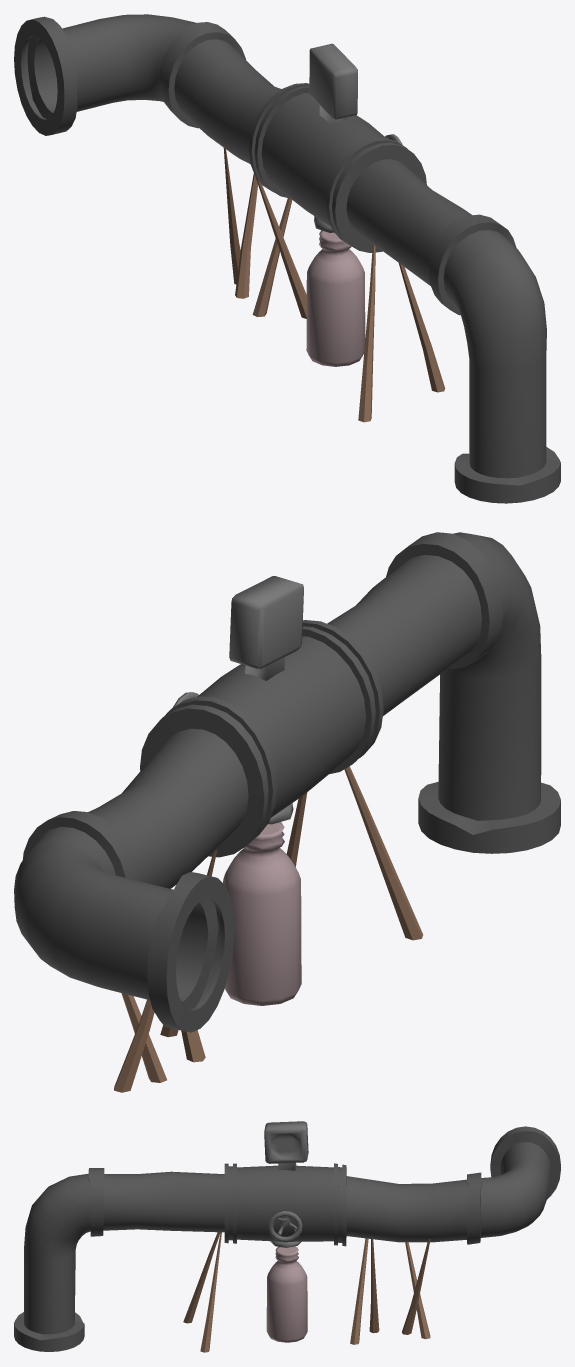
File: MilkCollector.fbx
3 renders of one model, top to bottom at view 1: azimuth 30°, elevation 25°; view 2: azimuth 150°, elevation 25°; view 3: azimuth 270°, elevation 25°, orthographic. The views are drawn at different scales.
Parts seen in each view (by area): view 1: MilkCollector, Chopsticks, Bottle, PipeDecor; view 2: MilkCollector, Bottle, PipeDecor, Chopsticks; view 3: MilkCollector, Chopsticks, Bottle, PipeDecor.
Boxes of the visible parts, left/top/right/bottom form: MilkCollector: left=14, top=14, right=560, bottom=503; Chopsticks: left=223, top=147, right=445, bottom=422; Bottle: left=306, top=230, right=365, bottom=366; PipeDecor: left=309, top=43, right=402, bottom=232; MilkCollector: left=14, top=532, right=560, bottom=1032; Bottle: left=223, top=822, right=301, bottom=1005; PipeDecor: left=172, top=576, right=303, bottom=824; Chopsticks: left=114, top=766, right=423, bottom=1092; MilkCollector: left=14, top=1126, right=560, bottom=1351; Chopsticks: left=183, top=1232, right=430, bottom=1352; Bottle: left=266, top=1246, right=307, bottom=1342; PipeDecor: left=264, top=1121, right=308, bottom=1247.
Size of the model in its own units: 869 by 1347 by 3163.
